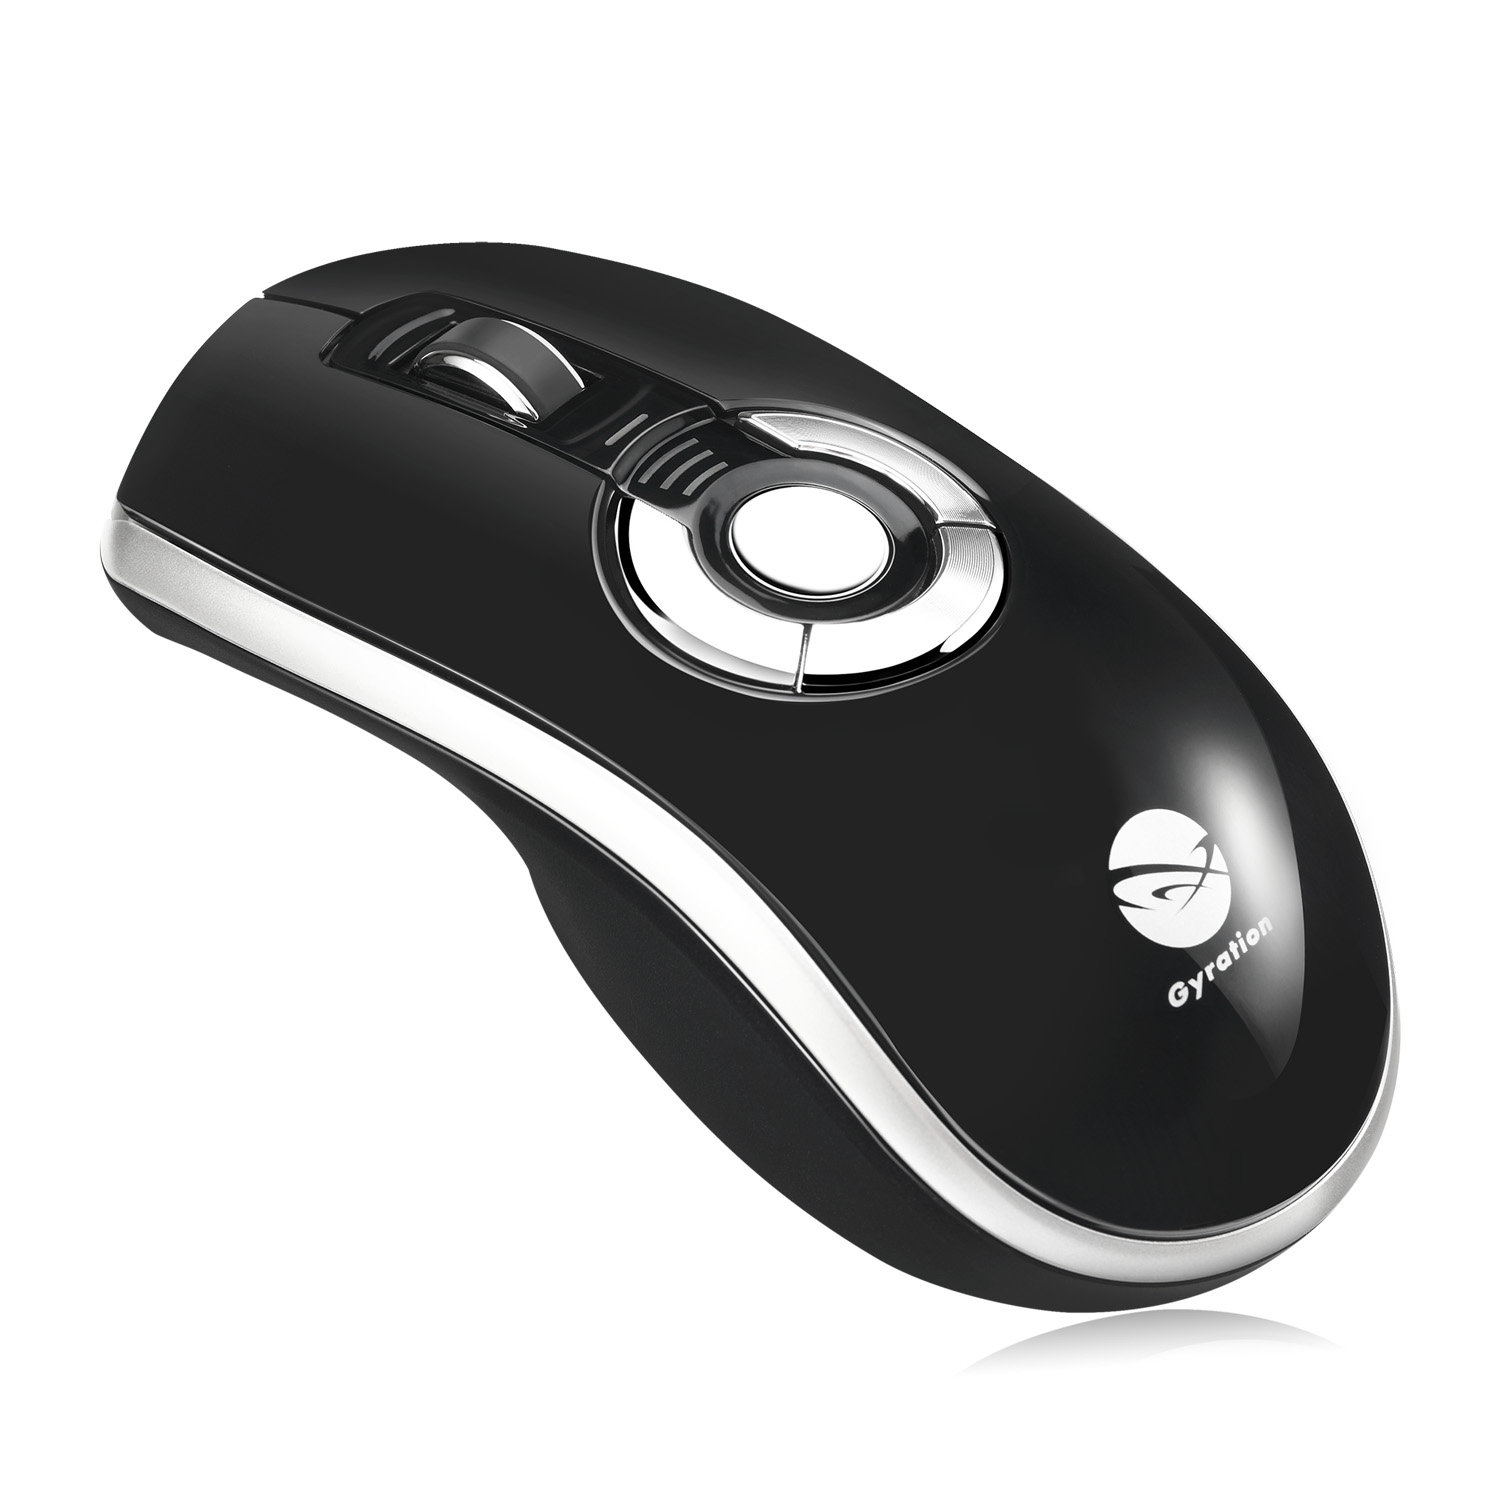Mouse: (85, 218, 1429, 1348)
